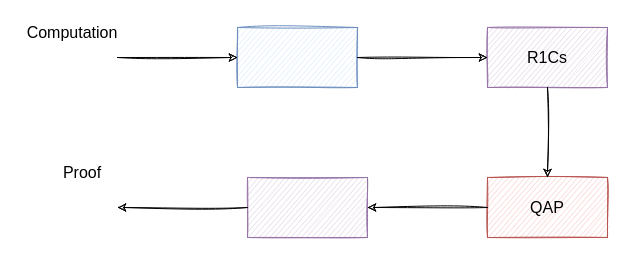
Some shapes in this 625 by 255 pixel diagram are drawn without their labels. The centre of each missing label's shape, as x and y in pixels:
Circuit: point (297, 57)
zkSNARK Algo: point (307, 207)
